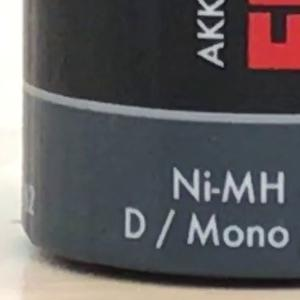keyword: (164, 162, 293, 210)
